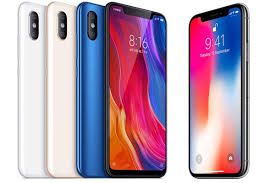iphone: (102, 1, 167, 177), (187, 1, 250, 179)
iphone10: (100, 1, 165, 175), (187, 1, 250, 178)
